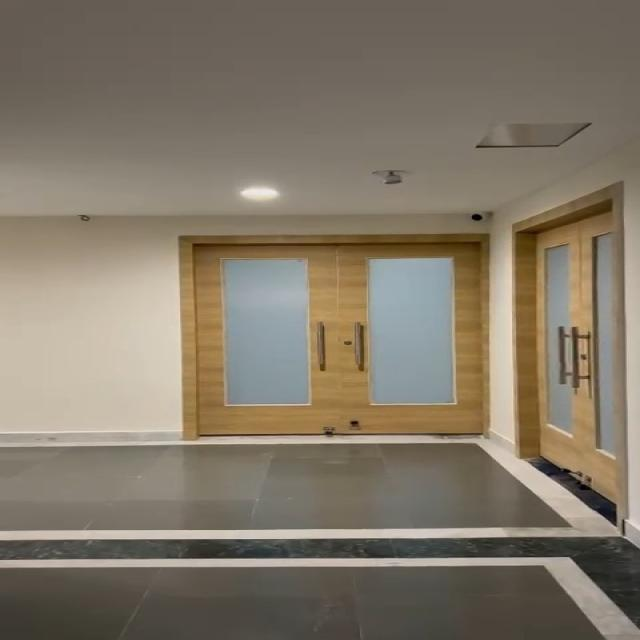door: (179, 238, 501, 441), (512, 217, 635, 480)
floor: (0, 442, 564, 640)
wall: (0, 202, 176, 443)
